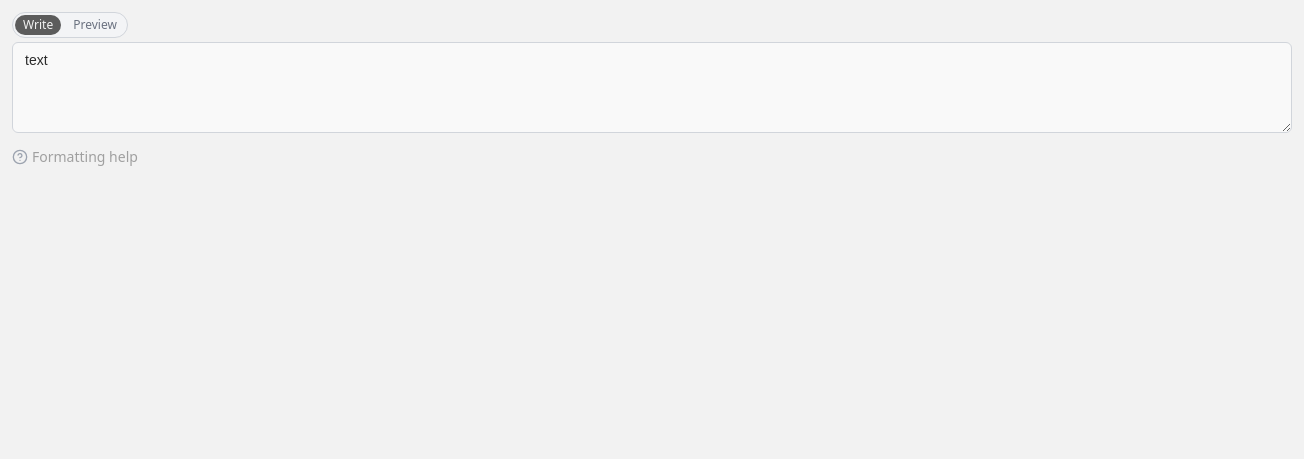
Scenario: BaseMarkdownField › keeps the formatting cheat sheet collapsed until asked
Step 1. Click the button "Formatting help" → (75, 157), box top-left (12, 147), bottom-right (138, 167)
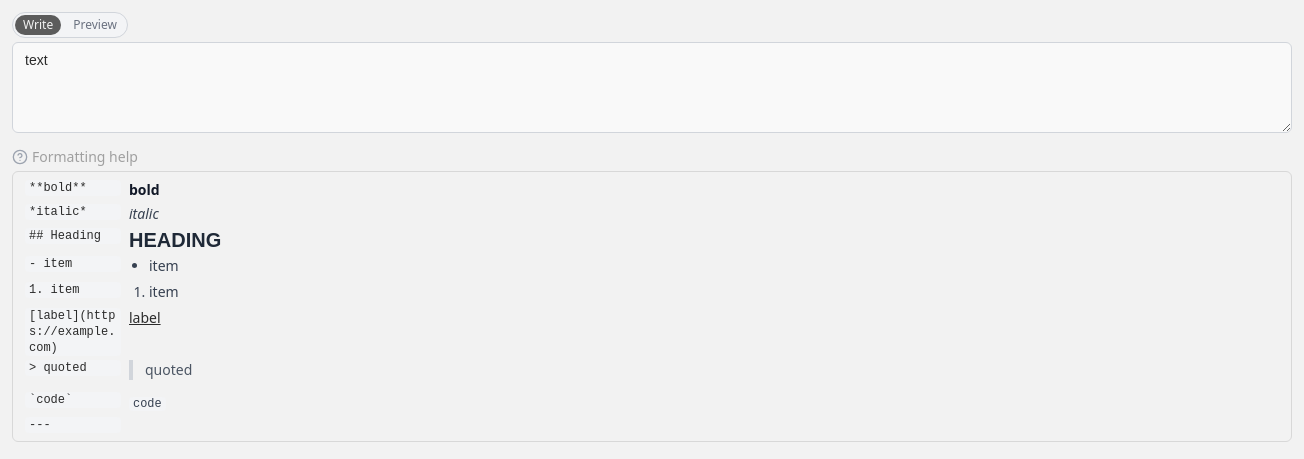
Result: the element with class "markdown-help-panel" is shown at top-left (12, 171), bottom-right (1292, 442)
Result: the text with class "markdown-help-source" reads "**bold**" at top-left (29, 181), bottom-right (87, 195)
Result: the text "bold" is shown at top-left (129, 180), bottom-right (160, 199)
